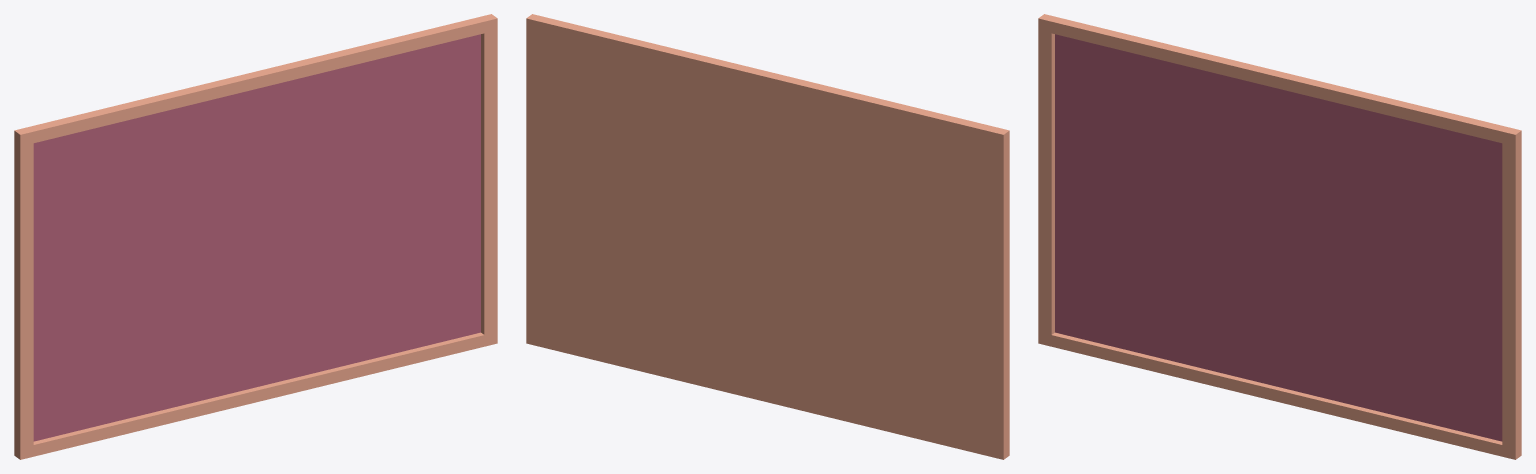
Rendered from painting.fbx.
3 renders of one model, left to right at view 1: azimuth 30°, elevation 25°; view 2: azimuth 150°, elevation 25°; view 3: azimuth 330°, elevation 25°, orthographic.
Parts seen in each view (by area): view 1: Painting; view 2: Painting; view 3: Painting.
Boxes of the visible parts, <box> form: Painting: <box>14,14,497,459</box>; Painting: <box>526,14,1009,459</box>; Painting: <box>1038,14,1521,459</box>.
Bounding box in the file's own units: 118 × 76.95 × 2.6.
1 material, 1 textured.
